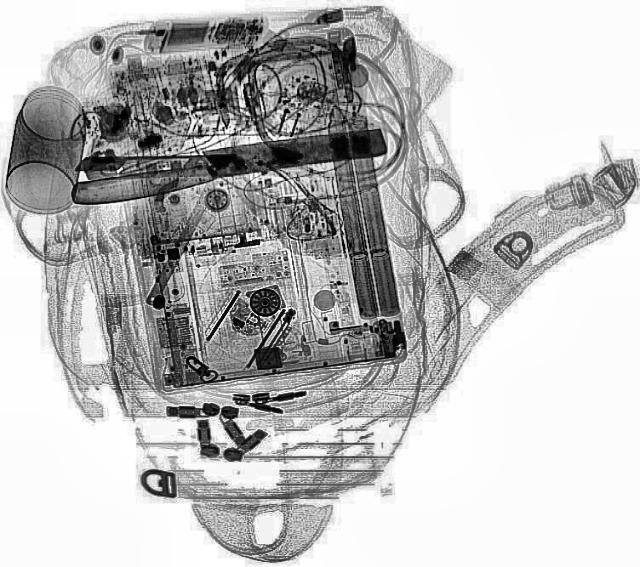Knife: (66, 125, 388, 207)
